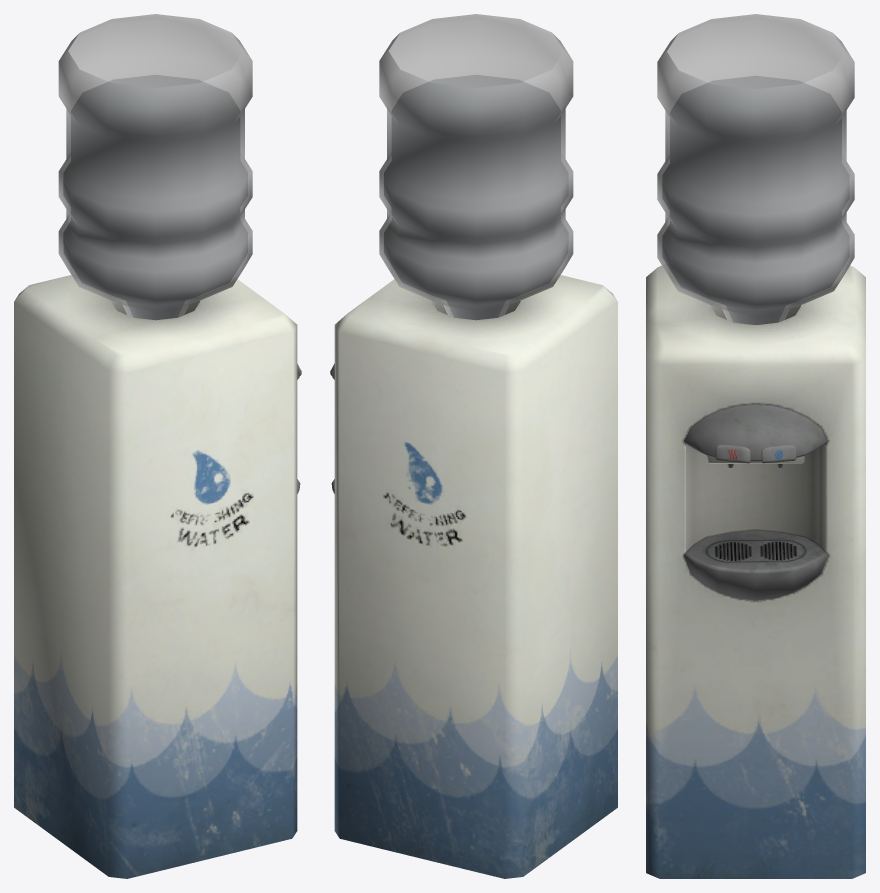
The model's file is water_cooler.dae.
The picture shows the model from 3 angles, left to right: view 1: azimuth 30°, elevation 25°; view 2: azimuth 150°, elevation 25°; view 3: azimuth 270°, elevation 25°; orthographic projection.
Visible parts, largest first — view 1: polySurface5, pCylinder1, water; view 2: polySurface5, pCylinder1, water; view 3: polySurface5, pCylinder1, water.
Part boxes in pixels (x1,y1,x2,y2): polySurface5: (14, 275, 301, 878); pCylinder1: (58, 14, 252, 320); water: (63, 75, 247, 319); polySurface5: (330, 275, 617, 878); pCylinder1: (379, 14, 573, 320); water: (384, 75, 568, 319); polySurface5: (646, 265, 865, 878); pCylinder1: (657, 14, 854, 324); water: (662, 76, 849, 324).
Bounding box in the file's own units: 0.6902 × 2.23 × 0.5675.
